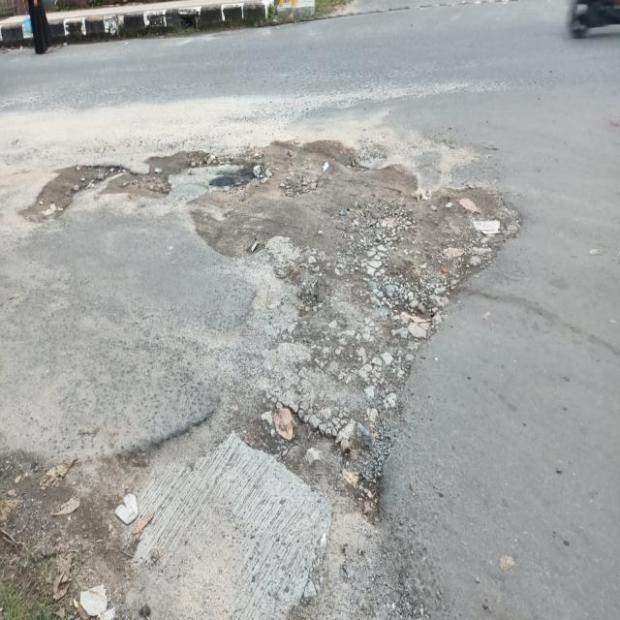lubang: (21, 141, 518, 385), (0, 386, 400, 619)
